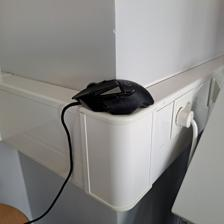mouse: (70, 77, 155, 115)
